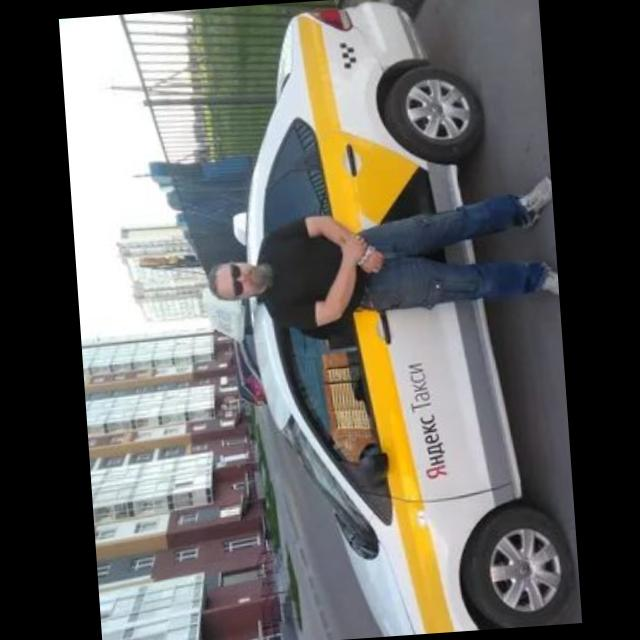taxi: (212, 1, 577, 640)
